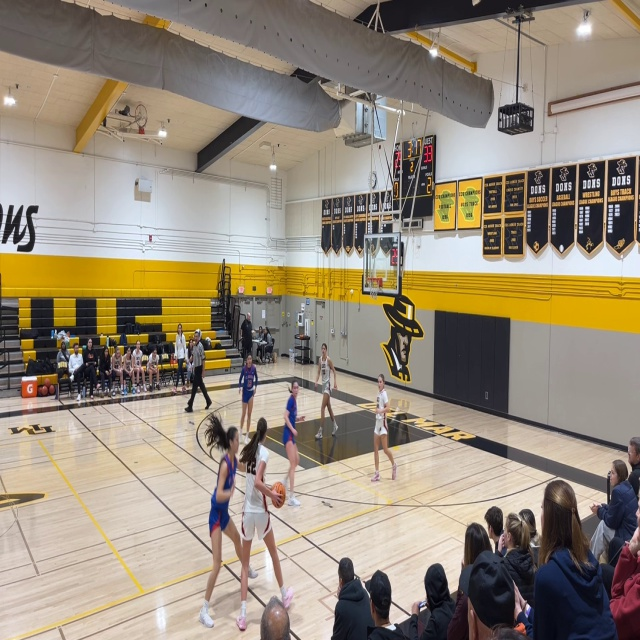Basketball: (270, 481, 286, 508)
